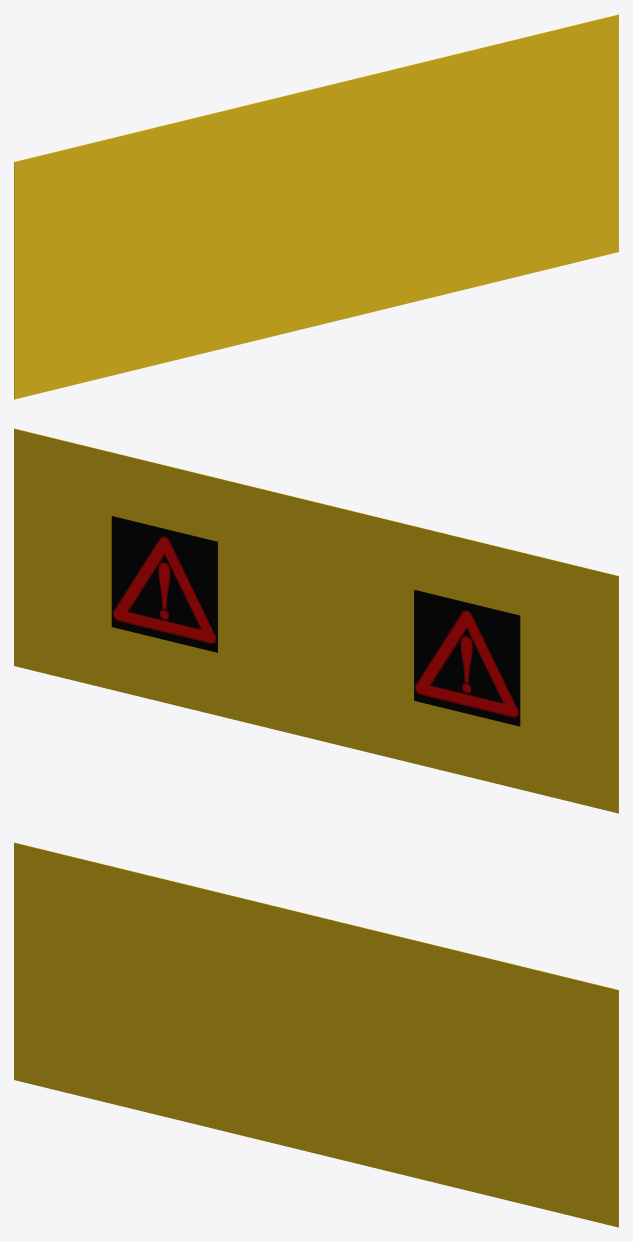
Rendered from Laser_fence.fbx.
The picture shows the model from 3 angles, top to bottom: view 1: azimuth 30°, elevation 25°; view 2: azimuth 150°, elevation 25°; view 3: azimuth 330°, elevation 25°; orthographic projection.
Parts seen in each view (by area): view 1: Laser_fence; view 2: Laser_fence; view 3: Laser_fence.
Part boxes in pixels (<box>): Laser_fence: <box>14,14,618,399</box>; Laser_fence: <box>14,428,618,813</box>; Laser_fence: <box>14,842,618,1227</box>.
Bounding box in the file's own units: 800 × 300 × 2.
